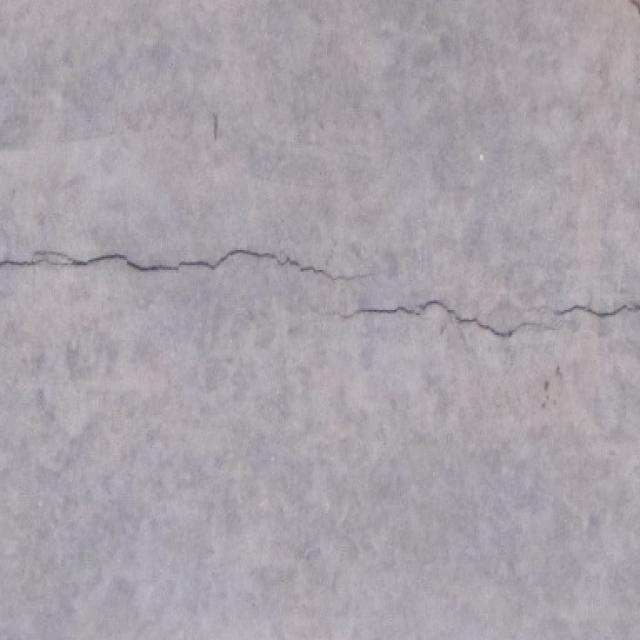Transverse: (0, 215, 640, 407)
